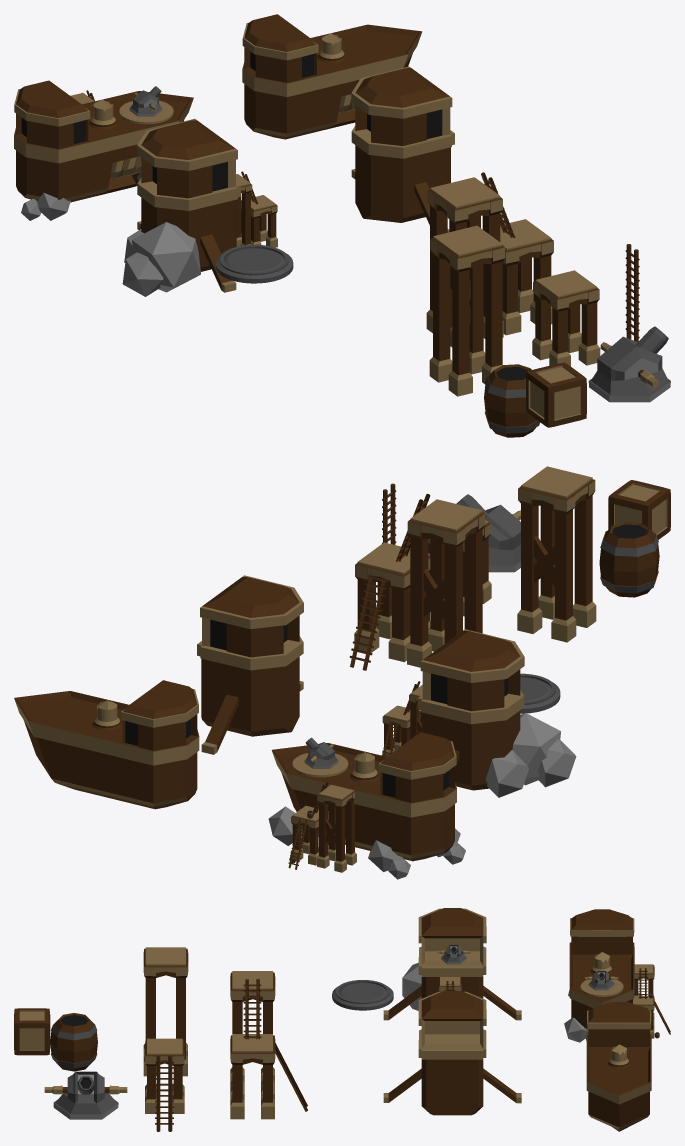
The model's file is Raiders_Cultist.fbx.
3 renders of one model, top to bottom at view 1: azimuth 30°, elevation 25°; view 2: azimuth 150°, elevation 25°; view 3: azimuth 270°, elevation 25°, orthographic. The views are drawn at different scales.
Visible parts, largest first — view 1: Cube, Icosphere.001, Cube.001, Cube.002, Cube.006, Cube.007, Cube.004, Cylinder, Cube.005, Cylinder.006, Cylinder.002, Cube.003 (+1 smaller); view 2: Cube, Cube.001, Icosphere.001, Cube.007, Cube.002, Cube.006, Cylinder.006, Cube.005, Cylinder, Cube.003, Cylinder.002, Cube.004 (+1 smaller); view 3: Cube.002, Cube, Cube.001, Icosphere.001, Cube.007, Cube.006, Cylinder, Cylinder.006, Cube.004, Cube.005, Cylinder.002, Cylinder.001 (+1 smaller).
Part boxes in pixels (left/top/right/bottom): Cube: left=14, top=80, right=193, bottom=220; Icosphere.001: left=122, top=118, right=240, bottom=296; Cube.001: left=242, top=14, right=422, bottom=139; Cube.002: left=351, top=66, right=454, bottom=232; Cube.006: left=429, top=225, right=505, bottom=396; Cube.007: left=426, top=172, right=553, bottom=347; Cube.004: left=532, top=270, right=600, bottom=366; Cylinder: left=588, top=326, right=670, bottom=402; Cube.005: left=526, top=362, right=586, bottom=427; Cylinder.006: left=484, top=364, right=540, bottom=437; Cylinder.002: left=215, top=244, right=293, bottom=283; Cube.003: left=236, top=171, right=277, bottom=247; Cube: left=268, top=732, right=465, bottom=879; Cube.001: left=14, top=680, right=199, bottom=809; Icosphere.001: left=417, top=629, right=576, bottom=797; Cube.007: left=349, top=493, right=485, bottom=670; Cube.002: left=197, top=575, right=303, bottom=754; Cube.006: left=517, top=466, right=596, bottom=642; Cylinder.006: left=599, top=521, right=659, bottom=597; Cube.005: left=608, top=480, right=670, bottom=539; Cylinder: left=456, top=494, right=520, bottom=572; Cube.003: left=381, top=681, right=422, bottom=756; Cylinder.002: left=520, top=673, right=560, bottom=713; Cube.004: left=428, top=520, right=491, bottom=616; Cube.002: left=383, top=991, right=521, bottom=1115; Cube: left=564, top=909, right=670, bottom=1042; Cube.001: left=586, top=1002, right=651, bottom=1131; Icosphere.001: left=383, top=908, right=521, bottom=1020; Cube.007: left=230, top=971, right=307, bottom=1119; Cube.006: left=143, top=947, right=188, bottom=1076; Cylinder: left=44, top=1071, right=127, bottom=1119; Cylinder.006: left=50, top=1013, right=97, bottom=1071; Cube.004: left=145, top=1038, right=184, bottom=1113; Cube.005: left=14, top=1008, right=50, bottom=1055; Cylinder.002: left=332, top=980, right=393, bottom=1010; Cylinder.001: left=155, top=1055, right=173, bottom=1131.
Size of the model in its own units: 1243 by 433 by 2130.
